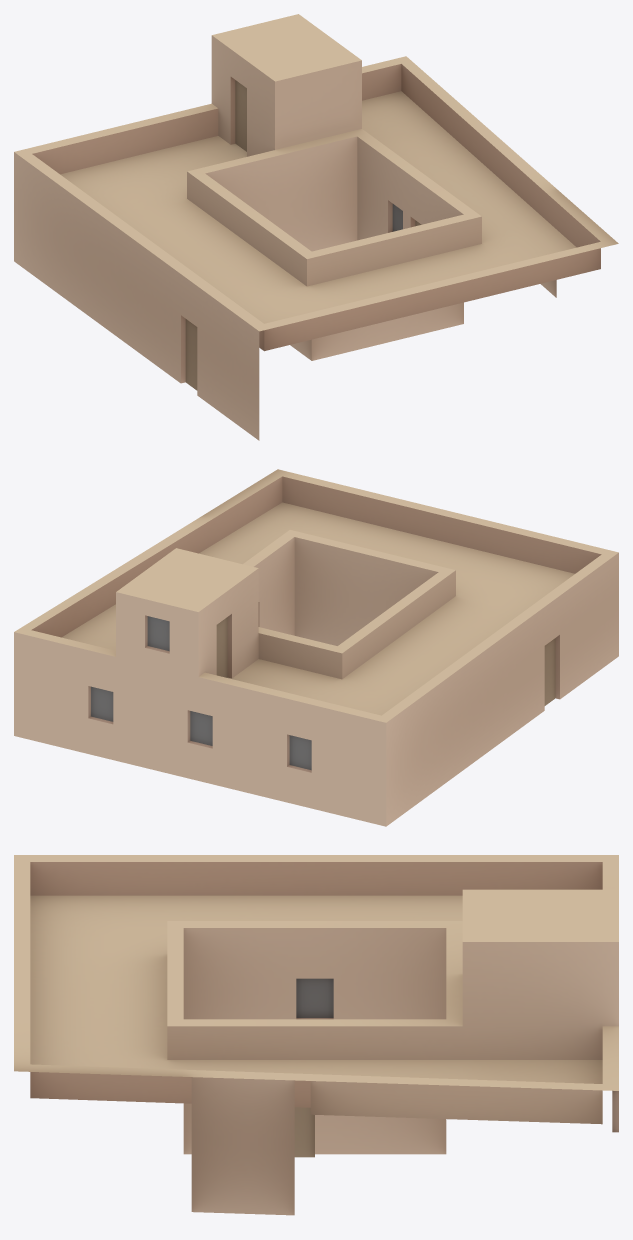
3 views of the same model, one above another, from view 1: azimuth 30°, elevation 25°; view 2: azimuth 150°, elevation 25°; view 3: azimuth 270°, elevation 25° (orthographic). The views are drawn at different scales.
Parts seen in each view (by area): view 1: atturaifworldheritagesite70030076209992983; view 2: atturaifworldheritagesite70030076209992983; view 3: atturaifworldheritagesite70030076209992983.
Boxes of the visible parts, x1,y1,x2,y2 form: atturaifworldheritagesite70030076209992983: (14,14,618,440); atturaifworldheritagesite70030076209992983: (14,469,618,826); atturaifworldheritagesite70030076209992983: (14,855,618,1215).
Bounding box in the file's own units: 12 × 5.2 × 13.
1 material, 1 textured.
